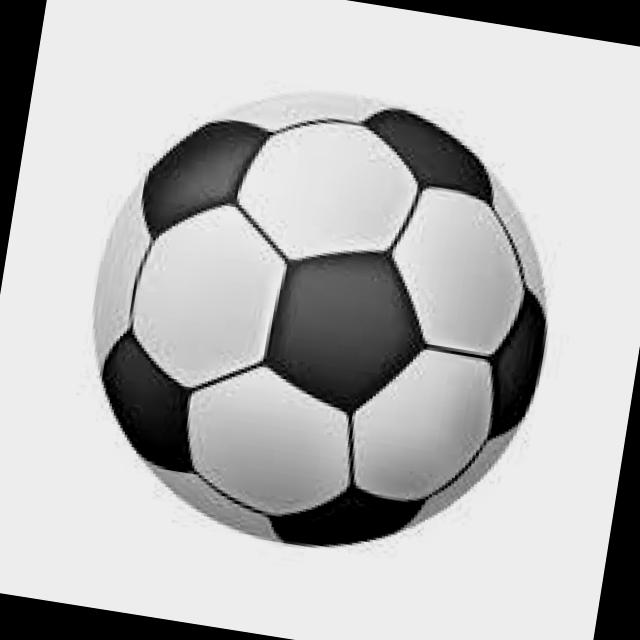Soccer Ball: (61, 52, 580, 582)
